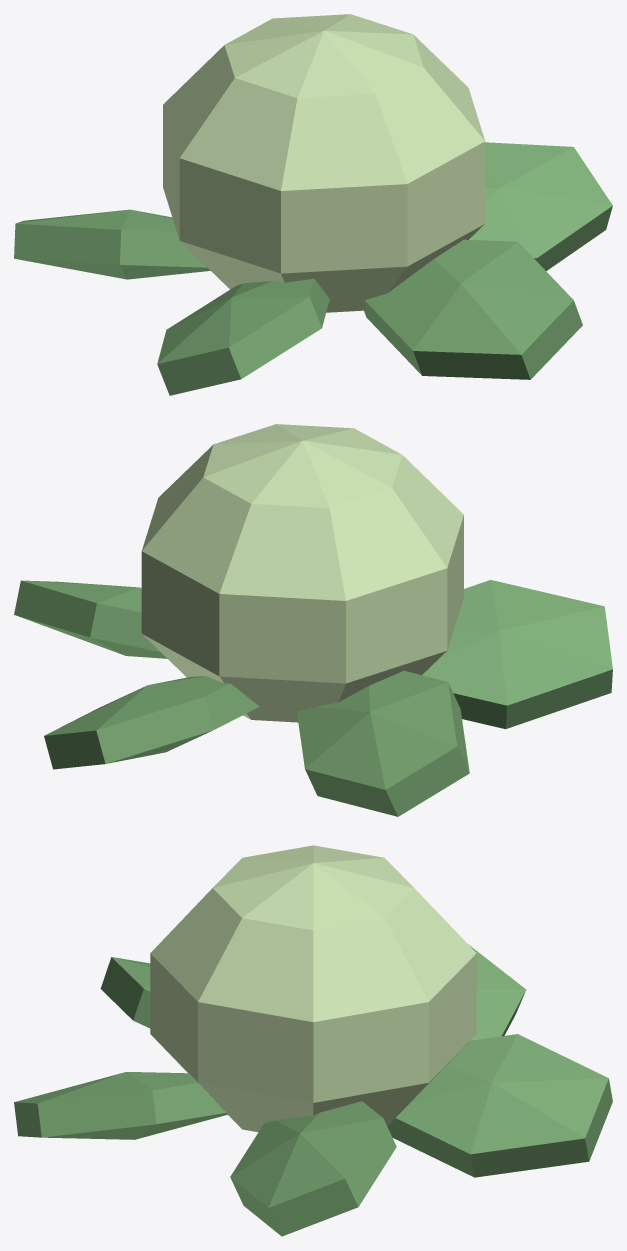
Rendered from cabbage.glb.
3 renders of one model, top to bottom at view 1: azimuth 30°, elevation 25°; view 2: azimuth 150°, elevation 25°; view 3: azimuth 270°, elevation 25°, orthographic. The views are drawn at different scales.
Visible parts, largest first — view 1: cabbage; view 2: cabbage; view 3: cabbage.
Boxes of the visible parts, x1=… form: cabbage: x1=14, y1=14, x2=612, y2=395; cabbage: x1=14, y1=424, x2=612, y2=816; cabbage: x1=14, y1=845, x2=612, y2=1236.
Bounding box in the file's own units: 0.83 × 0.4202 × 0.8727.
